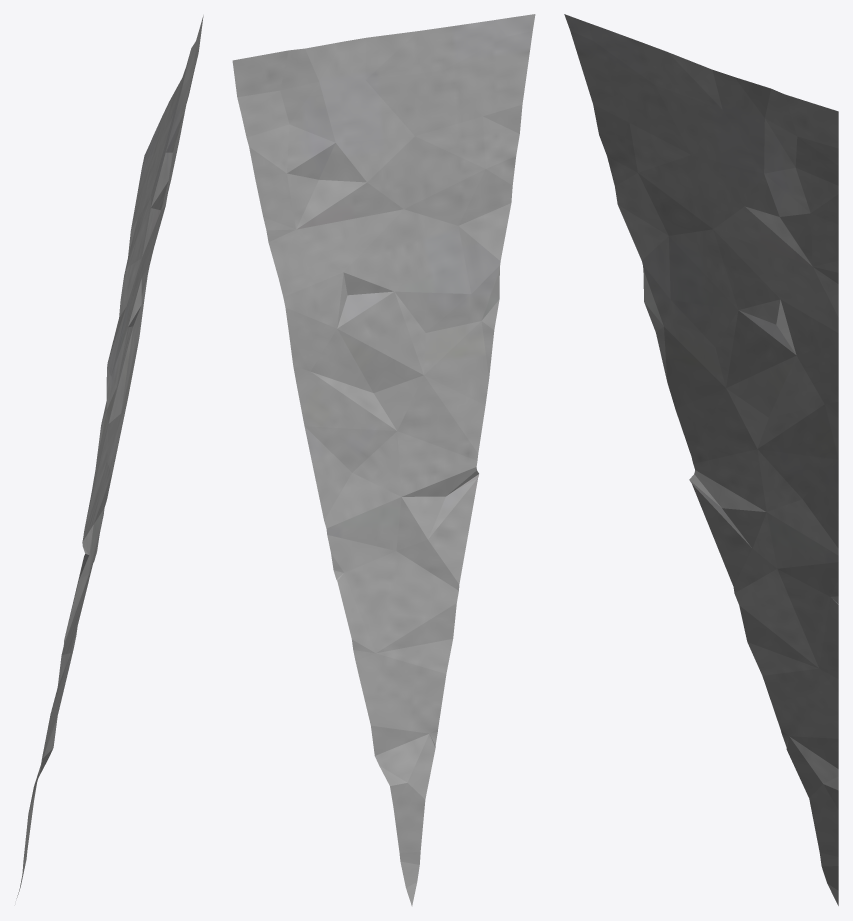
The picture shows the model from 3 angles, left to right: view 1: azimuth 30°, elevation 25°; view 2: azimuth 150°, elevation 25°; view 3: azimuth 270°, elevation 25°; orthographic projection. The views are drawn at different scales.
Bounding box in the file's own units: 0.1298 × 0.5542 × 0.1545.
Materials: 1 (1 with a texture image).
